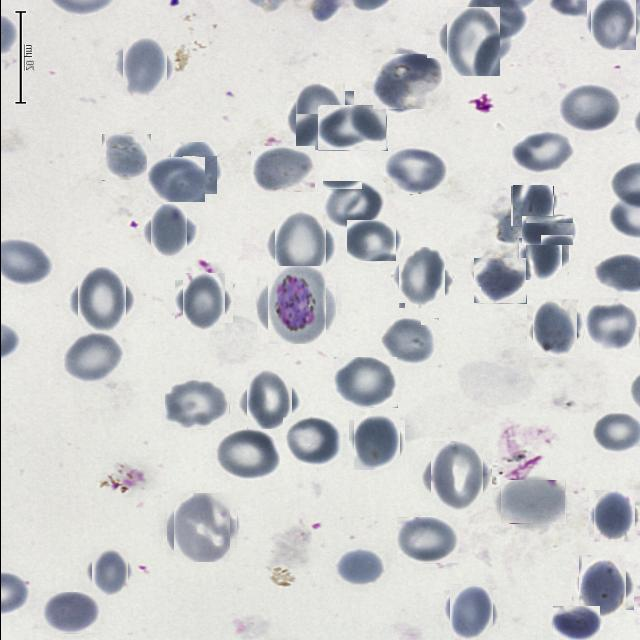red blood cell: (170, 496, 232, 560), (372, 54, 442, 110), (269, 215, 331, 277), (424, 445, 486, 507), (442, 10, 504, 72), (290, 87, 349, 145), (333, 357, 397, 408), (214, 429, 279, 479), (164, 380, 229, 430), (72, 272, 130, 328), (316, 105, 386, 151), (574, 558, 630, 614), (382, 146, 447, 194), (62, 332, 124, 382), (557, 83, 620, 132), (322, 181, 386, 229), (393, 251, 448, 305), (250, 146, 314, 192), (242, 374, 296, 428), (396, 517, 458, 564), (282, 417, 342, 465), (500, 480, 565, 524), (510, 131, 575, 174), (380, 318, 438, 365), (118, 41, 170, 93), (584, 298, 636, 350), (528, 302, 580, 353), (146, 157, 204, 202), (350, 418, 401, 468), (178, 276, 228, 326), (446, 587, 496, 637), (168, 143, 218, 193), (473, 258, 526, 304), (42, 592, 100, 634), (589, 0, 638, 48), (101, 134, 151, 181), (590, 492, 638, 540), (144, 209, 190, 255), (346, 220, 395, 261), (334, 548, 385, 586), (87, 550, 131, 594), (522, 235, 564, 278), (510, 185, 552, 227), (552, 606, 599, 640), (521, 216, 573, 246)
schizont: (262, 270, 330, 340)
